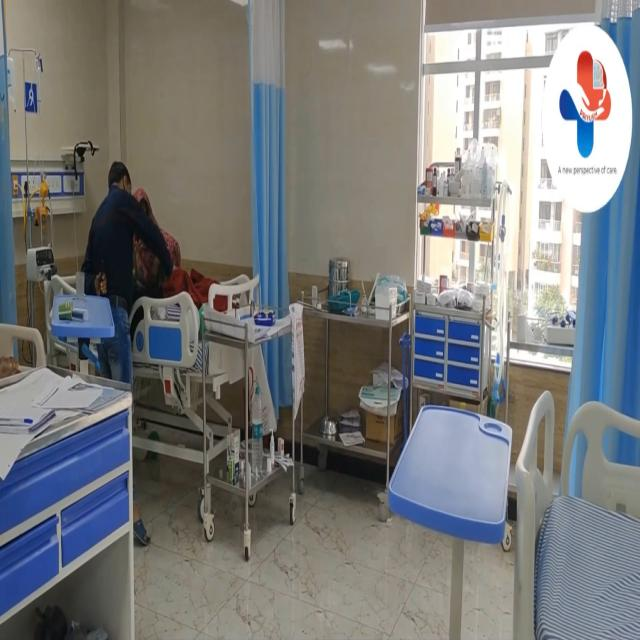Family-Member: (93, 158, 138, 526)
Patient: (135, 179, 252, 314)
